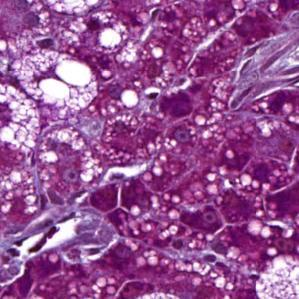ballooning: (10, 44, 101, 116), (3, 82, 43, 154), (252, 252, 299, 299)
